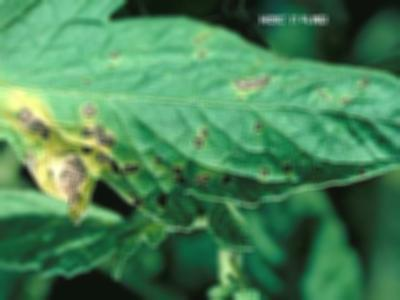Tomato Early blight leaf: (1, 24, 400, 222)
